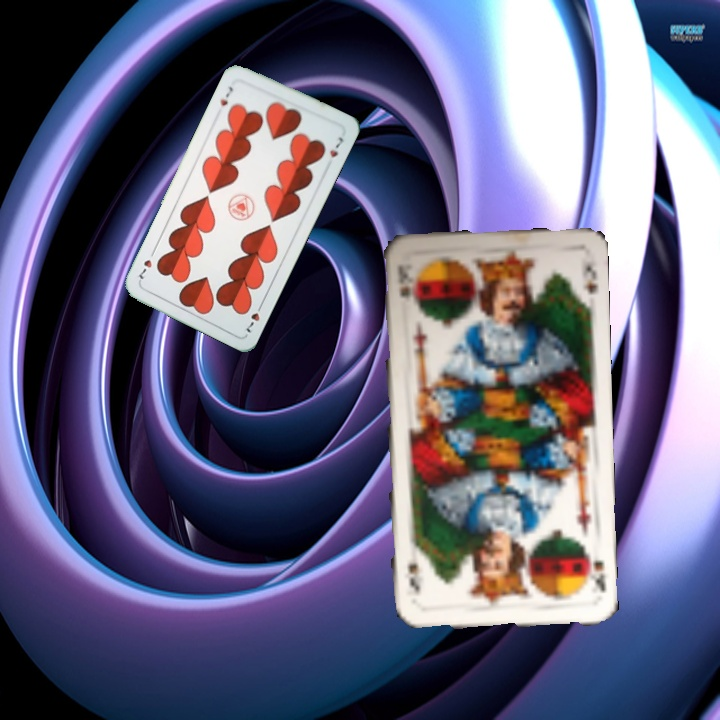H7: (242, 298, 266, 336), (216, 82, 236, 108)
SK: (581, 542, 609, 595), (394, 264, 415, 301)
